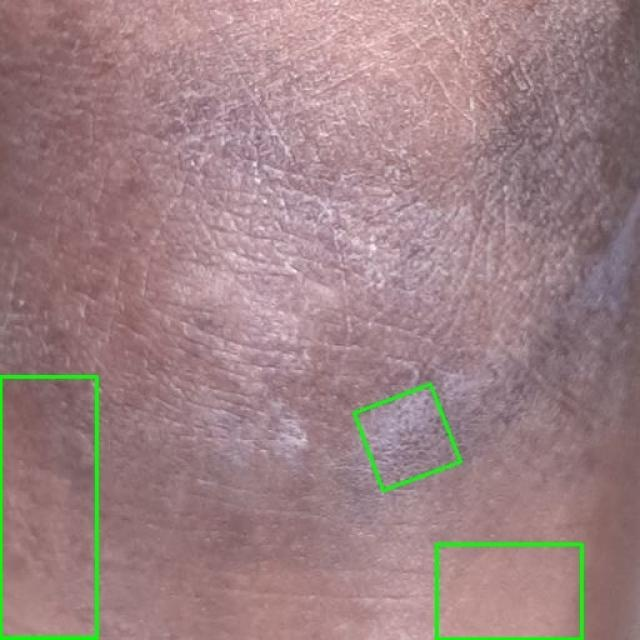Contact Dermatitis: (0, 378, 98, 639), (436, 544, 581, 639), (354, 385, 460, 490)
